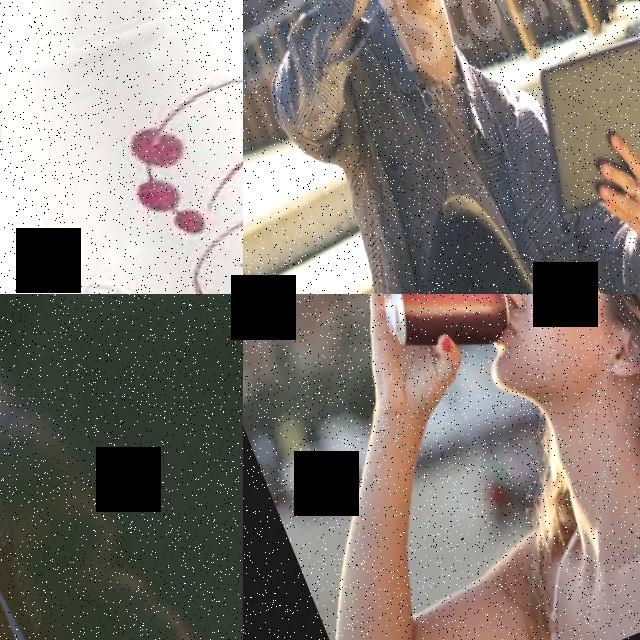can: (0, 344, 130, 640), (367, 294, 525, 378)
cup: (0, 0, 243, 294)
